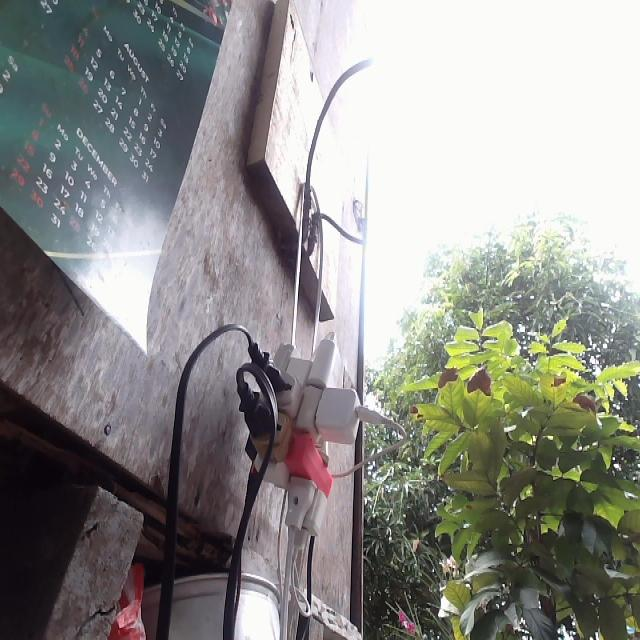-: (236, 330, 366, 546)
